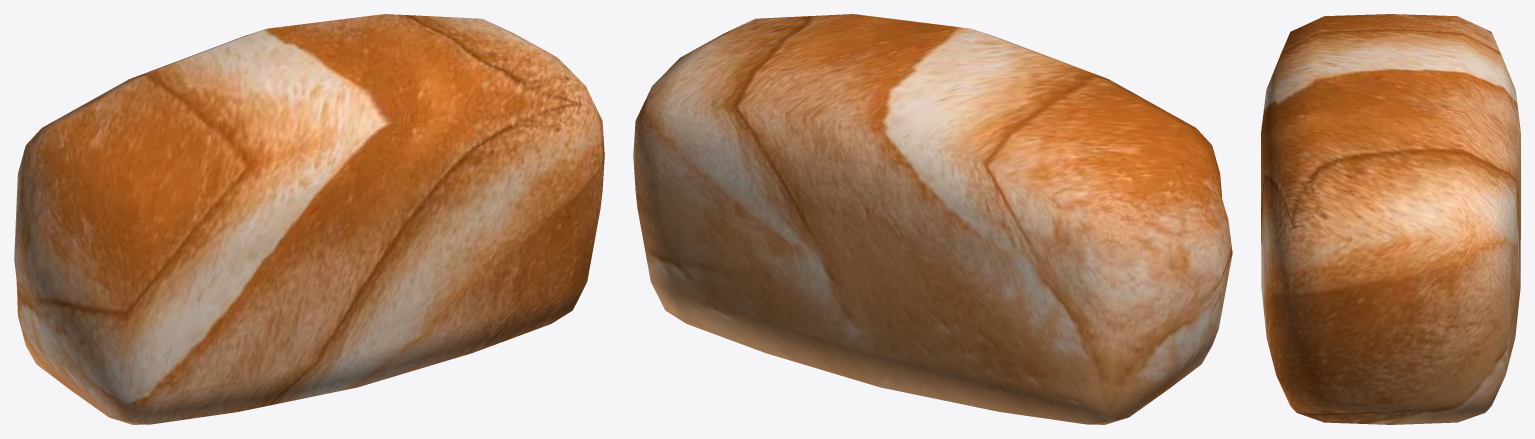
The model's file is Bread.glb.
3 renders of one model, left to right at view 1: azimuth 30°, elevation 25°; view 2: azimuth 150°, elevation 25°; view 3: azimuth 270°, elevation 25°, orthographic. The views are drawn at different scales.
Visible parts, largest first — view 1: Cube.012; view 2: Cube.012; view 3: Cube.012.
Boxes of the visible parts, x1,y1,x2,y2 form: Cube.012: (14,14,604,424); Cube.012: (633,14,1232,424); Cube.012: (1261,14,1520,424).
Bounding box in the file's own units: 5.1 × 2.66 × 2.27.
Materials: 1 (1 with a texture image).
